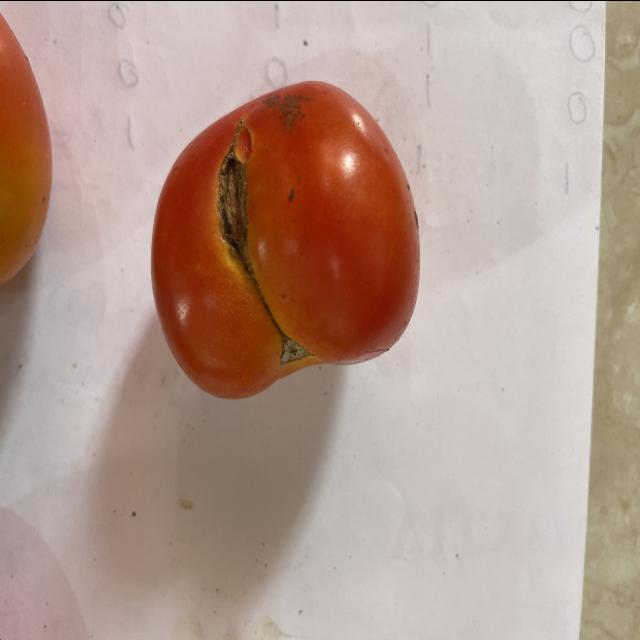tomato_cracking: (214, 126, 256, 264)
